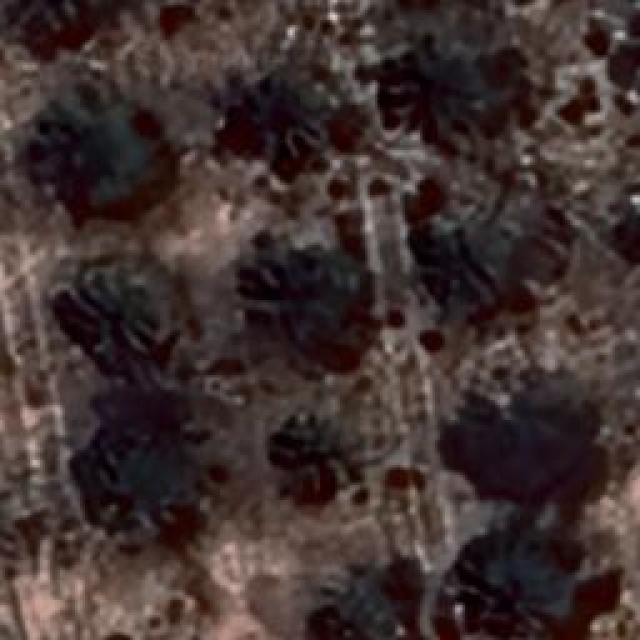PalmTree: (46, 20, 353, 614), (81, 418, 201, 542), (480, 385, 602, 496), (260, 242, 372, 358), (421, 199, 534, 299), (464, 550, 586, 640), (408, 40, 504, 135), (50, 115, 138, 213), (241, 74, 329, 164), (75, 278, 155, 360), (270, 428, 335, 500), (0, 480, 29, 576), (0, 477, 19, 572)
